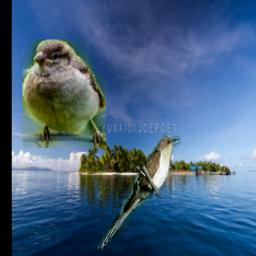Cuckoo: (97, 135, 181, 254)
Sparrow: (22, 40, 106, 149)
